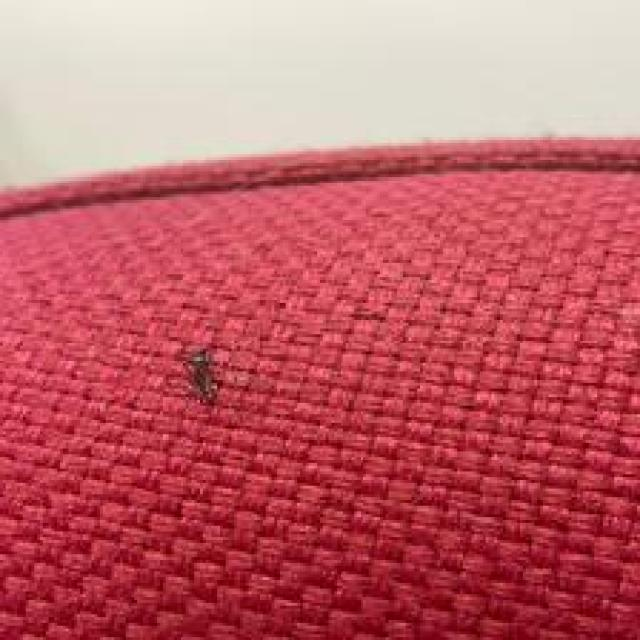Aedes albopictus: (184, 347, 222, 404)
